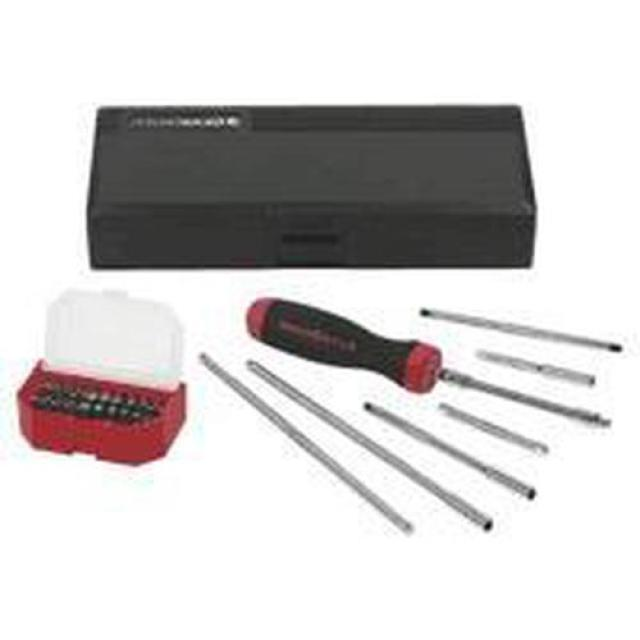screw driver: (236, 270, 640, 460)
